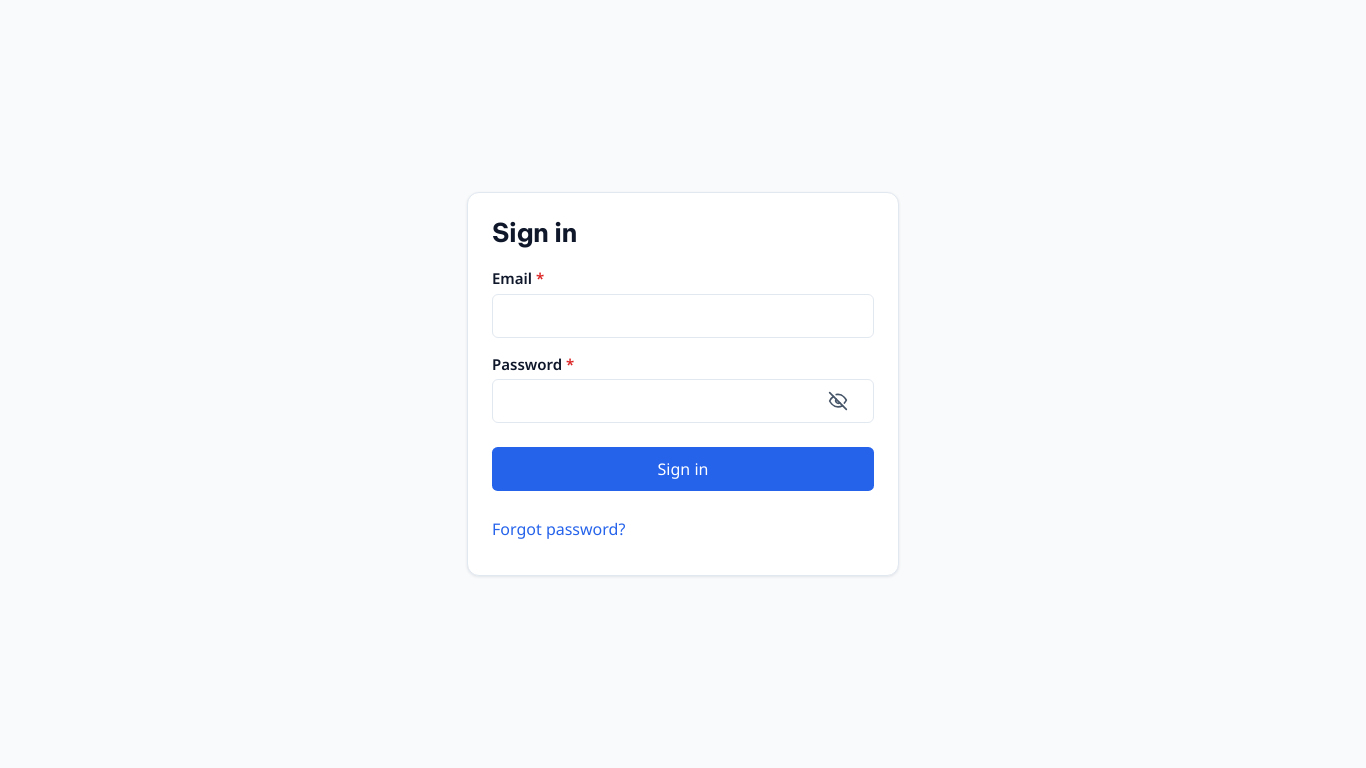
Test case: authentication pages › routes a forced login to change password
In the field labelled "Email": (683, 316) [492,294,874,338], type "ada@example.test"
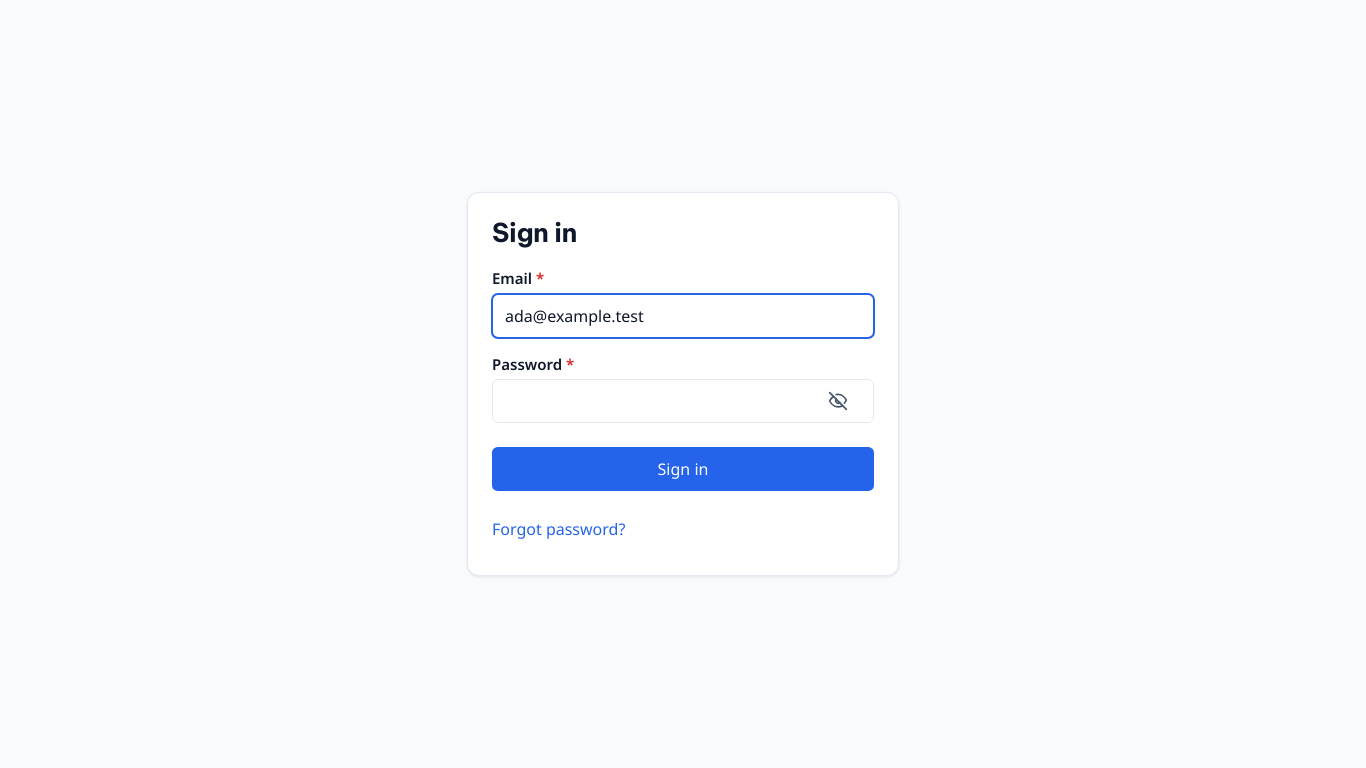
In the password field labelled "Password": (683, 401) [492,379,874,423], type "temporary"
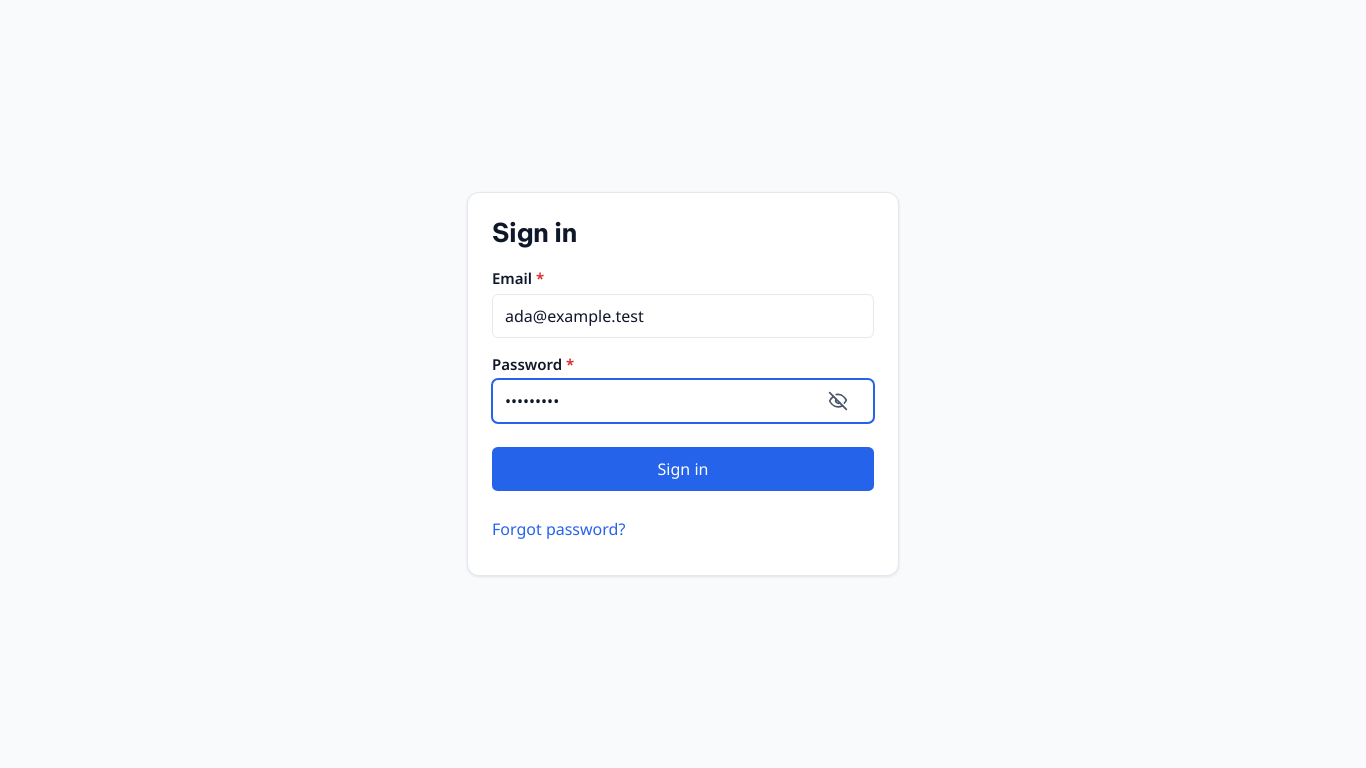
Click the button "Sign in": (683, 469) [492,447,874,491]
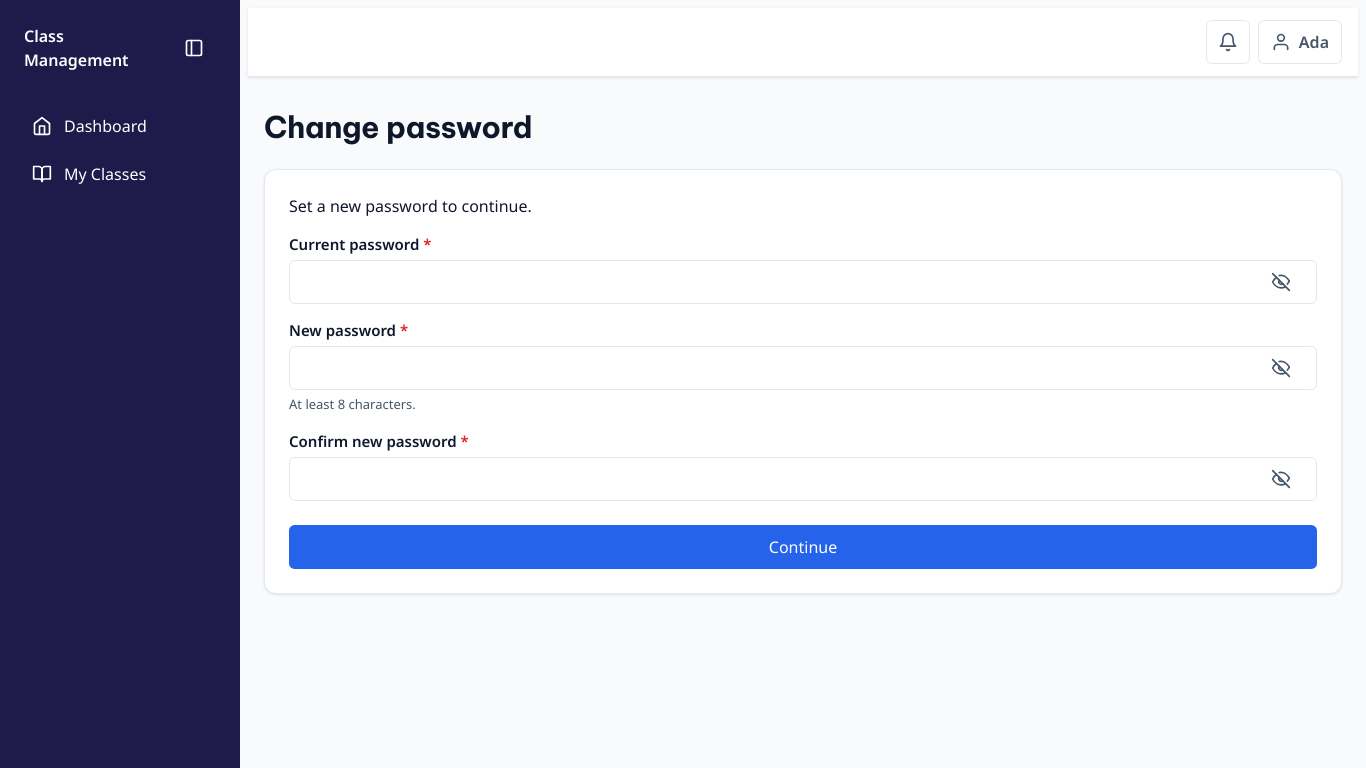
Result: the heading "Change password" is shown at [264,109,532,145]
